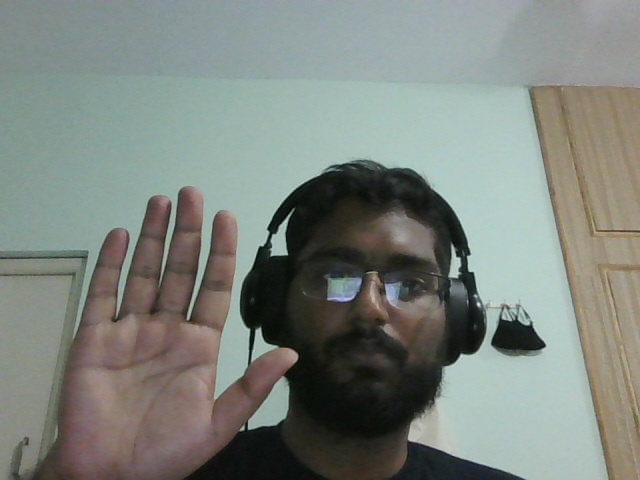Hello: (54, 174, 302, 480)
